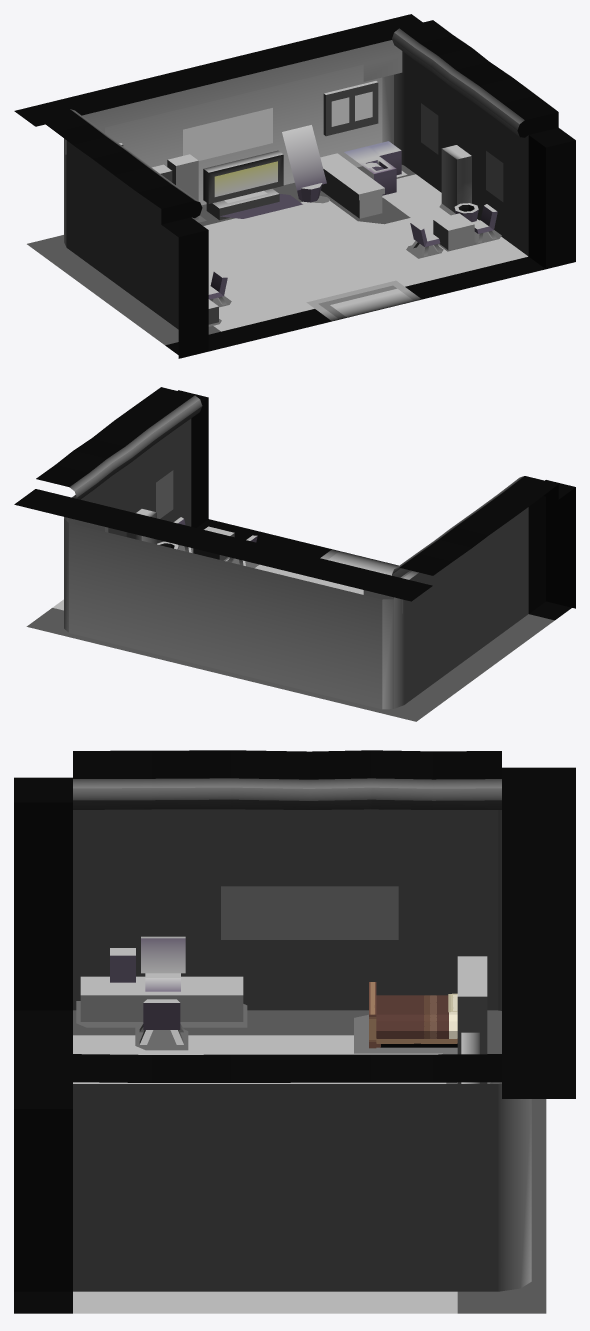
The model's file is lentimas_house_6.obj.
3 renders of one model, top to bottom at view 1: azimuth 30°, elevation 25°; view 2: azimuth 150°, elevation 25°; view 3: azimuth 270°, elevation 25°, orthographic. The views are drawn at different scales.
Bounding box in the file's own units: 277 × 91 × 198.
